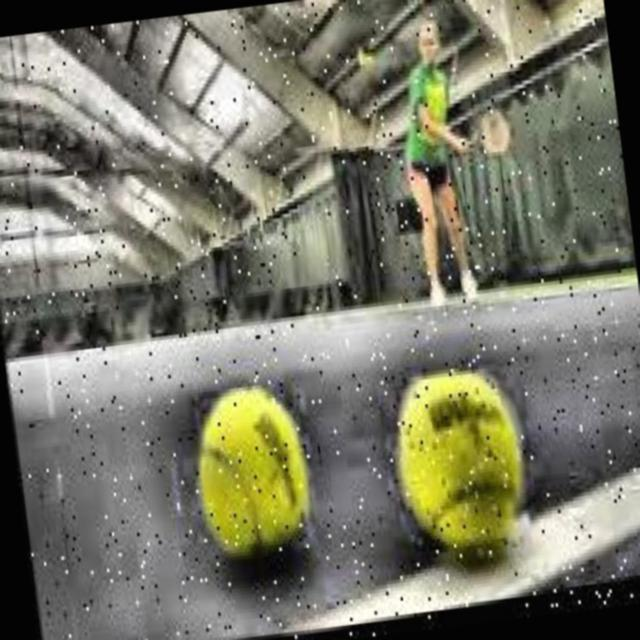tennis-ball: (389, 366, 540, 580), (183, 378, 318, 586), (360, 49, 376, 72)
